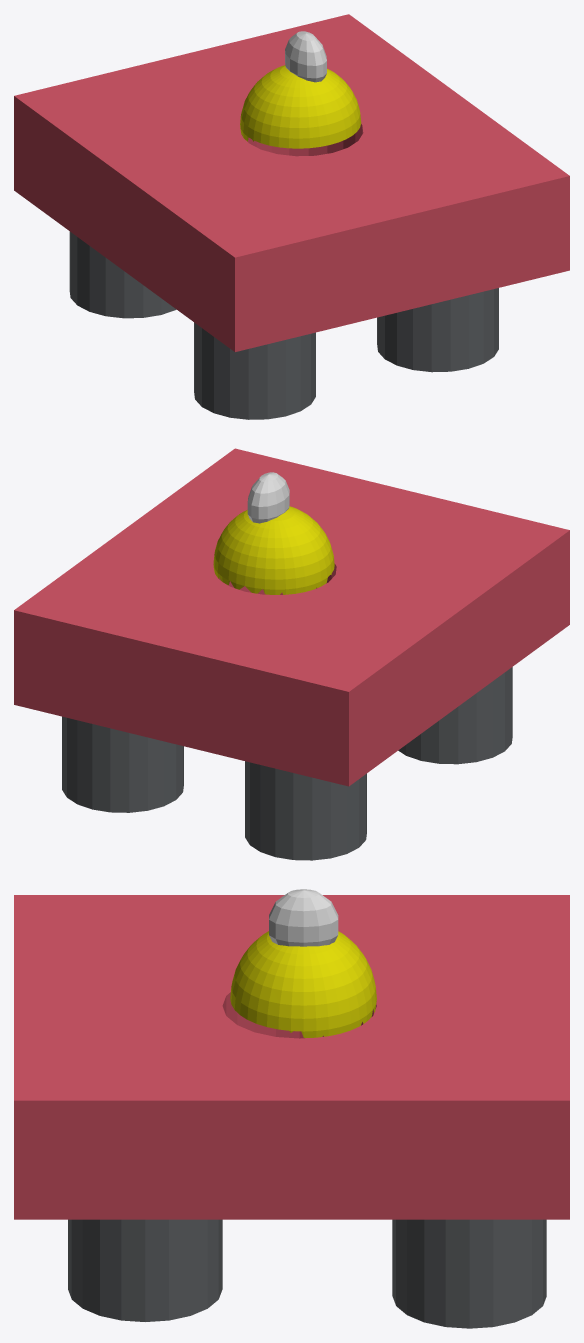
File: Epic Curcan.glb
The picture shows the model from 3 angles, top to bottom: view 1: azimuth 30°, elevation 25°; view 2: azimuth 150°, elevation 25°; view 3: azimuth 270°, elevation 25°; orthographic projection. The views are drawn at different scales.
Visible parts, largest first — view 1: Mesh_Mesh_head_geo.001_lambert2SG.001; view 2: Mesh_Mesh_head_geo.001_lambert2SG.001; view 3: Mesh_Mesh_head_geo.001_lambert2SG.001.
Part boxes in pixels (x1,y1,x2,y2): Mesh_Mesh_head_geo.001_lambert2SG.001: (14, 14, 569, 419); Mesh_Mesh_head_geo.001_lambert2SG.001: (14, 448, 569, 860); Mesh_Mesh_head_geo.001_lambert2SG.001: (14, 889, 569, 1328).
Size of the model in its own units: 63 by 51 by 72.
